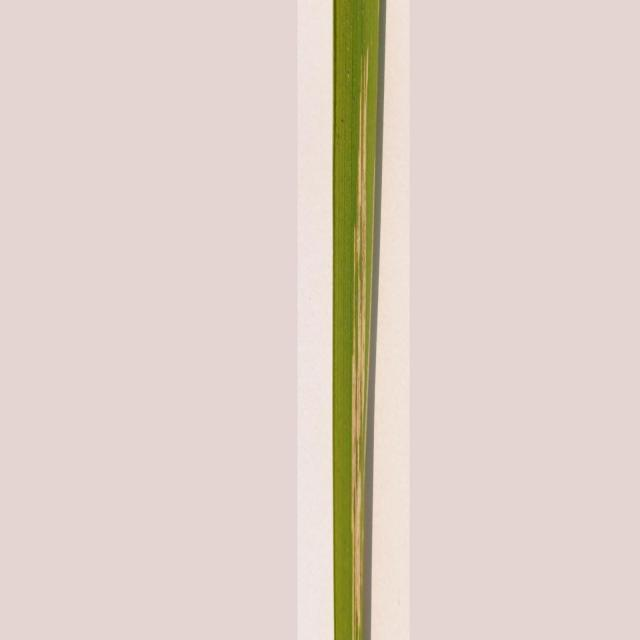leaf blight: (332, 50, 382, 640)
